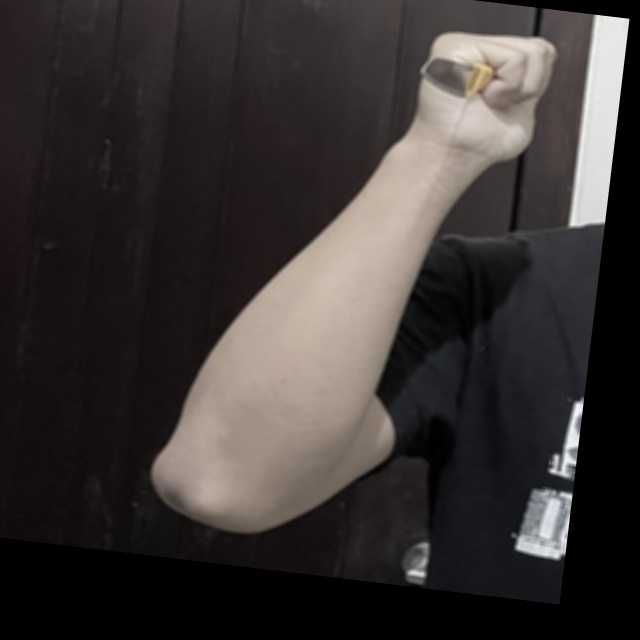Sharp-Object: (414, 51, 499, 105)
